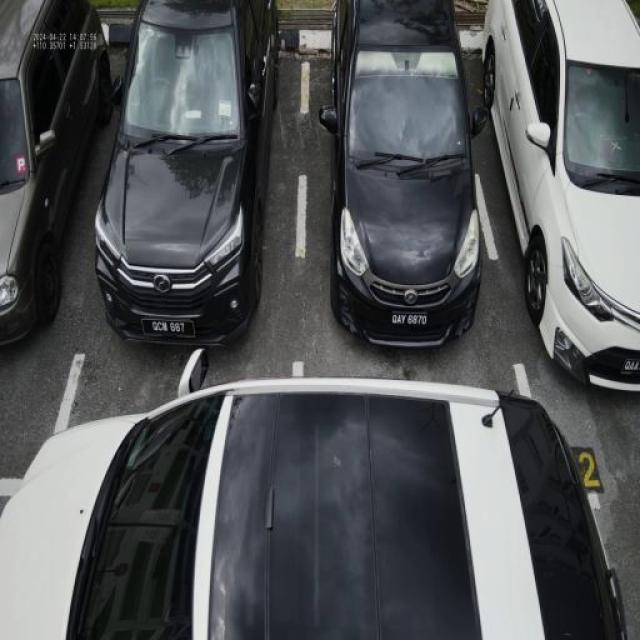Legalparking: (95, 0, 278, 344), (482, 0, 639, 390), (319, 0, 488, 346), (0, 0, 114, 344)
illegalparking: (0, 350, 628, 639)
